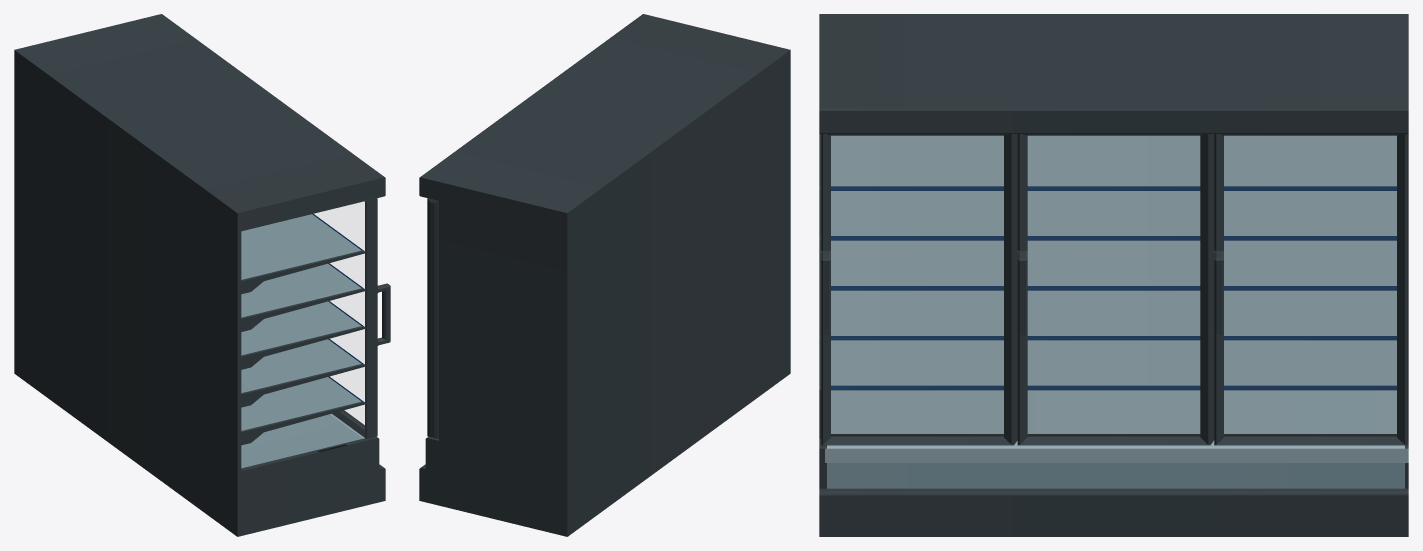
File: Freezer_Right_5row.glb
3 views of the same model, side by side, from view 1: azimuth 30°, elevation 25°; view 2: azimuth 150°, elevation 25°; view 3: azimuth 270°, elevation 25° (orthographic). The views are drawn at different scales.
Visible parts, largest first — view 1: Freezer_Right_5row; view 2: Freezer_Right_5row; view 3: Freezer_Right_5row.
Part boxes in pixels (x1,y1,x2,y2): Freezer_Right_5row: [14, 14, 390, 536]; Freezer_Right_5row: [419, 14, 790, 536]; Freezer_Right_5row: [819, 14, 1408, 536].
Bounding box in the file's own units: 1.2 × 2.4 × 3.
3 materials, 2 textured.
